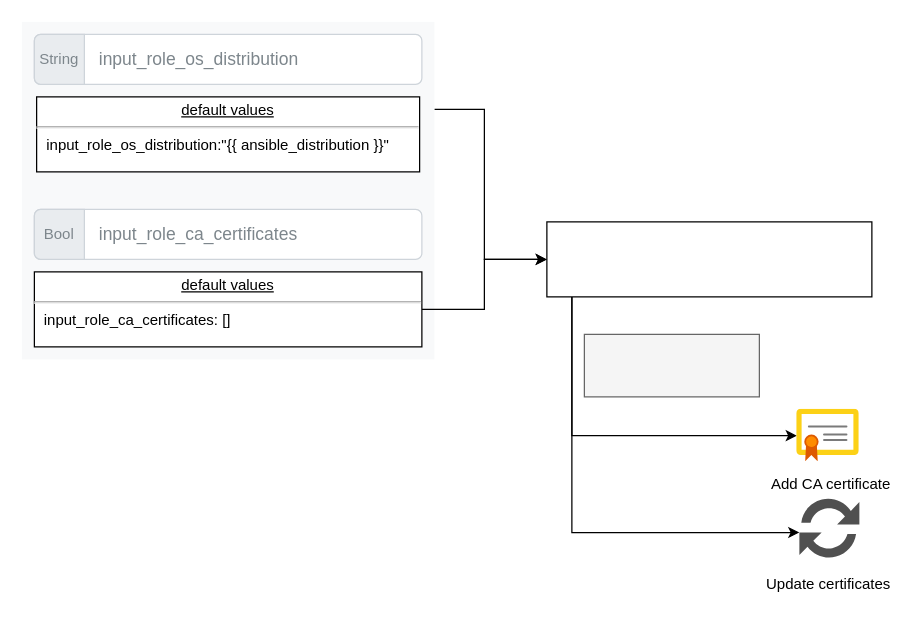
The diagram is 920 pixels wide and 618 high, and some of its shapes have lost their labels. The box of each missing label's shape, as (x1, y1, x2, y2) in pixels:
rnp-tools-ansible-roles-cacertificates: (546, 221, 872, 297)
when input_role_repositories is not null: (583, 333, 759, 397)
